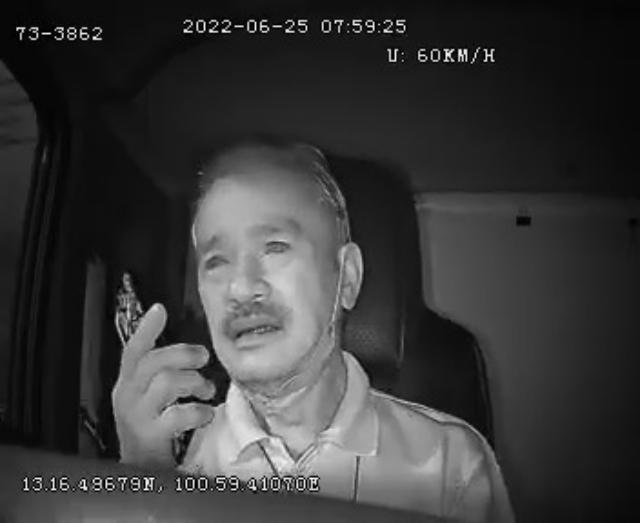PhoneUse: (110, 266, 192, 464)
SafeDriving: (196, 240, 238, 282), (255, 227, 299, 262)
